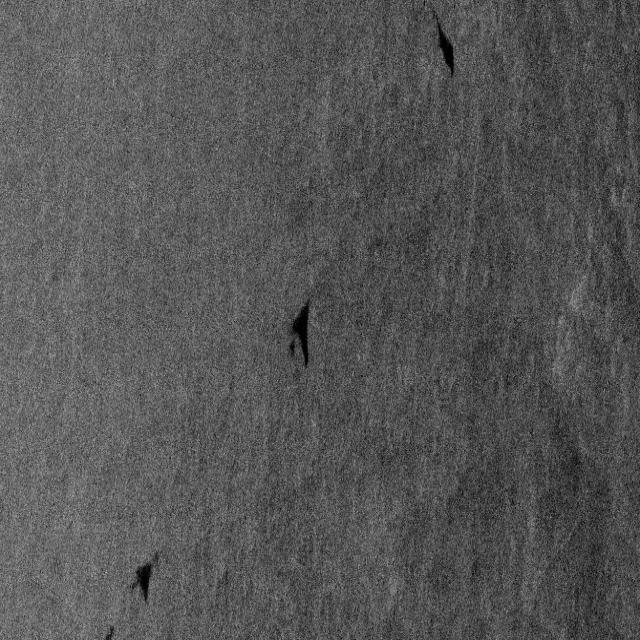oil-spill: (285, 290, 319, 378), (430, 12, 460, 78), (128, 550, 162, 603), (101, 616, 121, 640)
